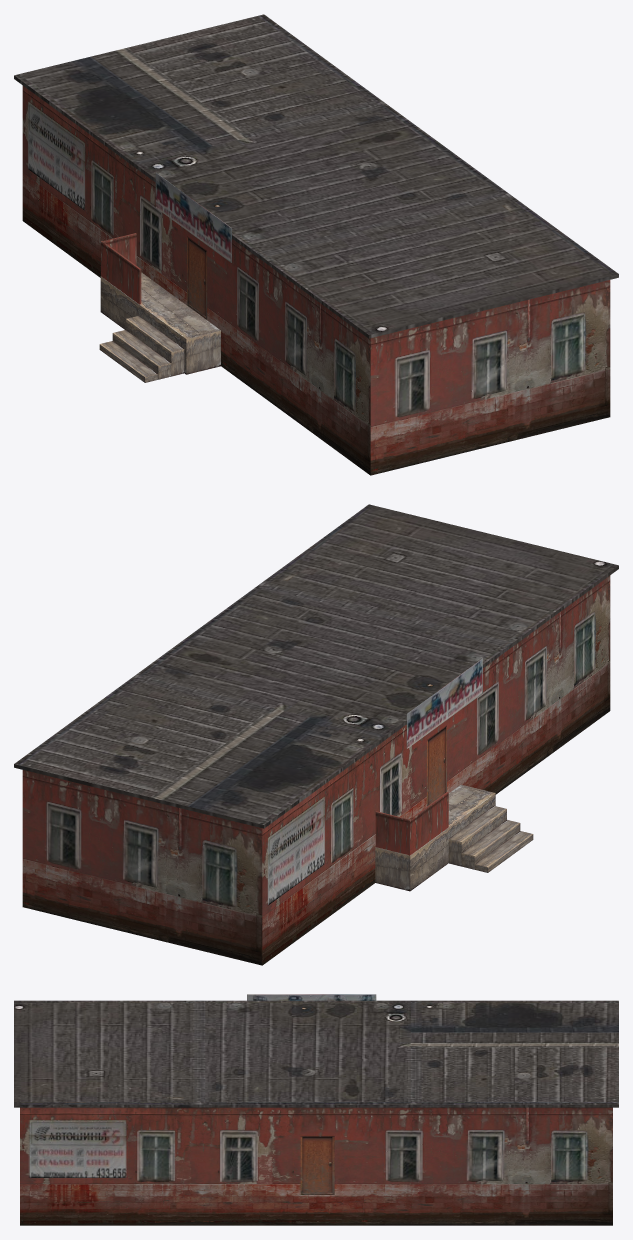
File: r402_tukalinsk_magazin.FBX
3 views of the same model, one above another, from view 1: azimuth 30°, elevation 25°; view 2: azimuth 150°, elevation 25°; view 3: azimuth 270°, elevation 25° (orthographic). The views are drawn at different scales.
Visible parts, largest first — view 1: r402_tukalinsk_magazin; view 2: r402_tukalinsk_magazin; view 3: r402_tukalinsk_magazin.
Part boxes in pixels (left/top/right/bottom): r402_tukalinsk_magazin: left=14, top=14, right=618, bottom=475; r402_tukalinsk_magazin: left=14, top=504, right=618, bottom=965; r402_tukalinsk_magazin: left=14, top=994, right=618, bottom=1225.
Bounding box in the file's own units: 9.5 × 18.3 × 4.31.
